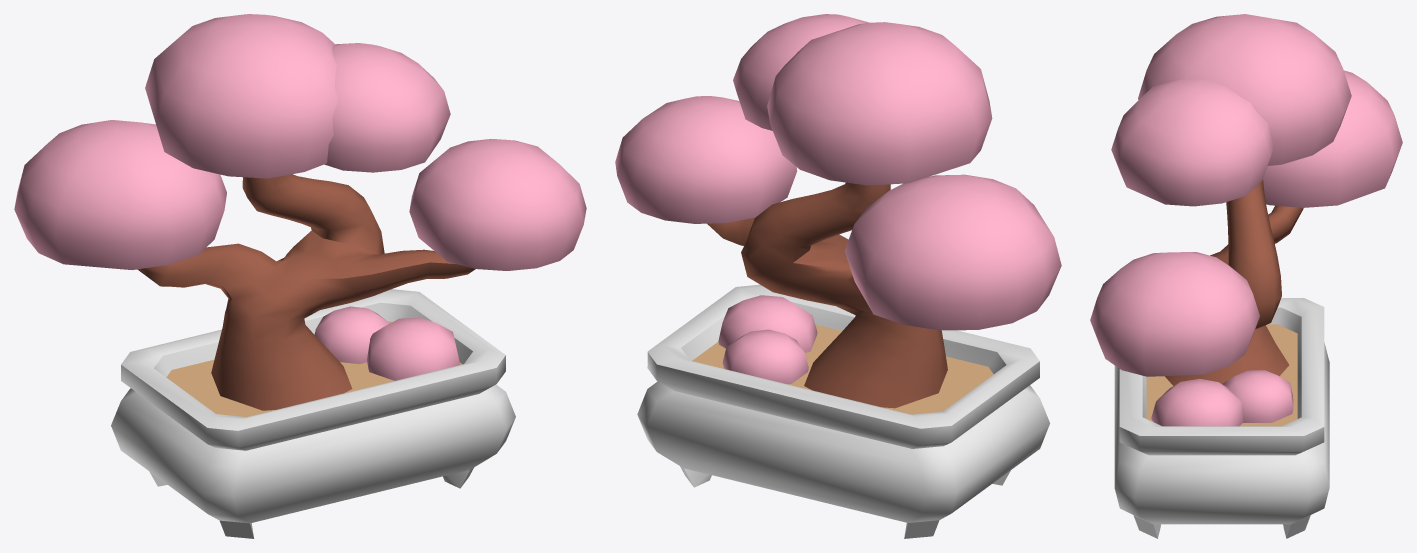
The model's file is bonsai_blossom.gltf.glb.
3 renders of one model, left to right at view 1: azimuth 30°, elevation 25°; view 2: azimuth 150°, elevation 25°; view 3: azimuth 270°, elevation 25°, orthographic. The views are drawn at different scales.
Visible parts, largest first — view 1: bonsai_blossom; view 2: bonsai_blossom; view 3: bonsai_blossom.
Boxes of the visible parts, bbox=[...] form: bonsai_blossom: bbox=[14, 14, 586, 538]; bonsai_blossom: bbox=[615, 14, 1061, 538]; bonsai_blossom: bbox=[1090, 14, 1402, 538].
Size of the model in its own units: 1.36 by 1.26 by 0.8193.
